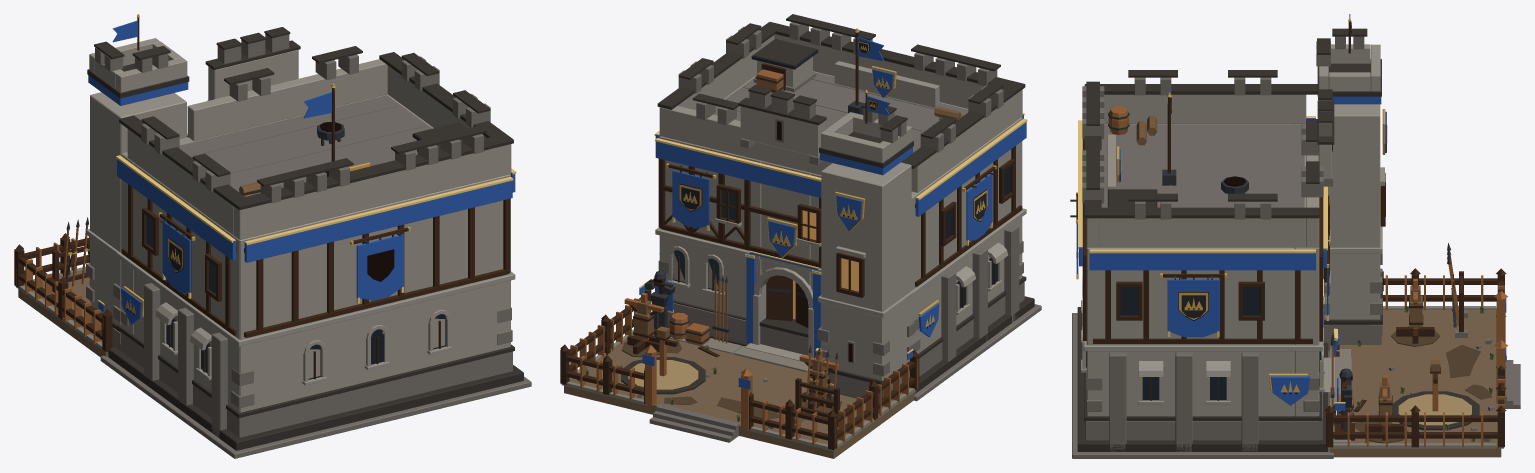
3 renders of one model, left to right at view 1: azimuth 30°, elevation 25°; view 2: azimuth 150°, elevation 25°; view 3: azimuth 270°, elevation 25°, orthographic. The views are drawn at different scales.
Parts seen in each view (by area): view 1: BR-主体, BR-team, BR-自发光, BR-team_trim; view 2: BR-主体, BR-team, BR-自发光, BR-team_trim; view 3: BR-主体, BR-team, BR-自发光, BR-team_trim.
Part boxes in pixels (x1,y1,x2,y2): BR-主体: [14, 14, 531, 458]; BR-team: [88, 20, 515, 324]; BR-自发光: [127, 122, 446, 379]; BR-team_trim: [98, 133, 516, 305]; BR-主体: [560, 14, 1041, 458]; BR-team: [639, 37, 1026, 389]; BR-自发光: [653, 40, 1010, 361]; BR-team_trim: [639, 113, 1027, 353]; BR-主体: [1070, 18, 1520, 458]; BR-team: [1076, 14, 1506, 415]; BR-自发光: [1086, 21, 1383, 400]; BR-team_trim: [1076, 116, 1345, 415].
Size of the model in its own units: 11.08 by 11.6 by 14.73.
Materials: 4 (2 with a texture image).
